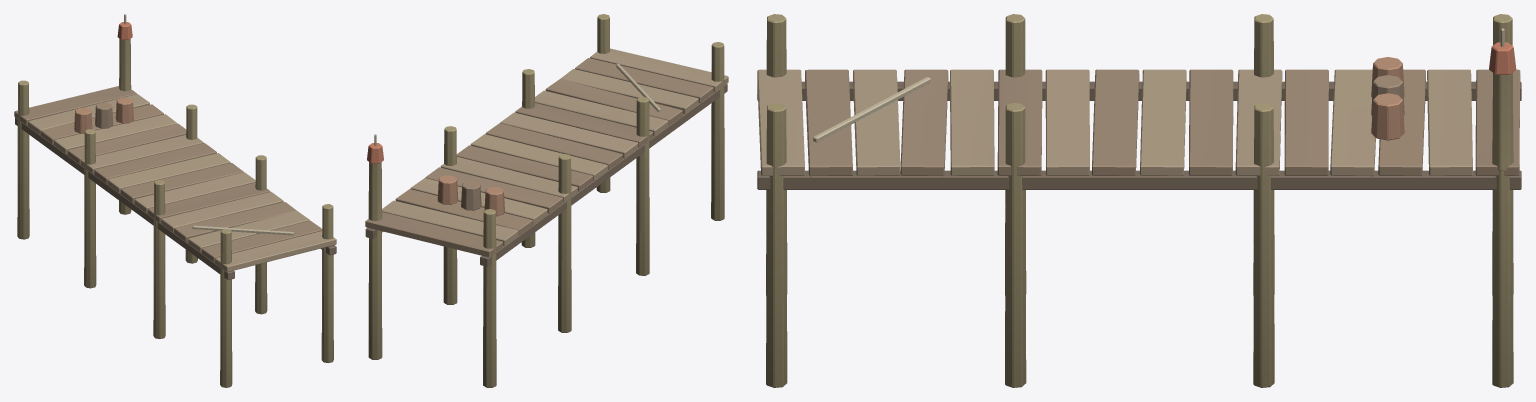
Rendered from iv_dock.glb.
The picture shows the model from 3 angles, left to right: view 1: azimuth 30°, elevation 25°; view 2: azimuth 150°, elevation 25°; view 3: azimuth 270°, elevation 25°; orthographic projection. The views are drawn at different scales.
Visible parts, largest first — view 1: iv_dock; view 2: iv_dock; view 3: iv_dock.
Part boxes in pixels (<box>): iv_dock: <box>14,14,336,387</box>; iv_dock: <box>365,14,728,387</box>; iv_dock: <box>757,14,1521,387</box>.
Bounding box in the file's own units: 2.44 × 4.1 × 8.
